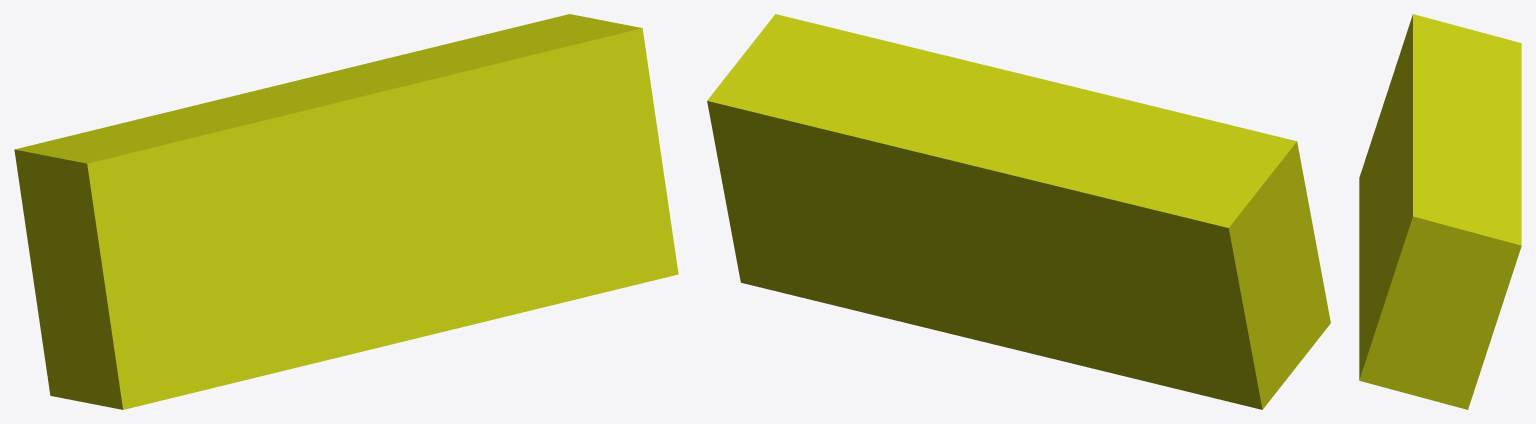
The model's file is boton06.FBX.
The picture shows the model from 3 angles, left to right: view 1: azimuth 30°, elevation 25°; view 2: azimuth 150°, elevation 25°; view 3: azimuth 270°, elevation 25°; orthographic projection. The views are drawn at different scales.
Visible parts, largest first — view 1: boton006; view 2: boton006; view 3: boton006.
Part boxes in pixels (x1,y1,x2,y2): boton006: [14, 14, 678, 409]; boton006: [707, 14, 1330, 409]; boton006: [1359, 14, 1521, 409].
Size of the model in its own units: 1.73 by 0.7714 by 0.5871.
